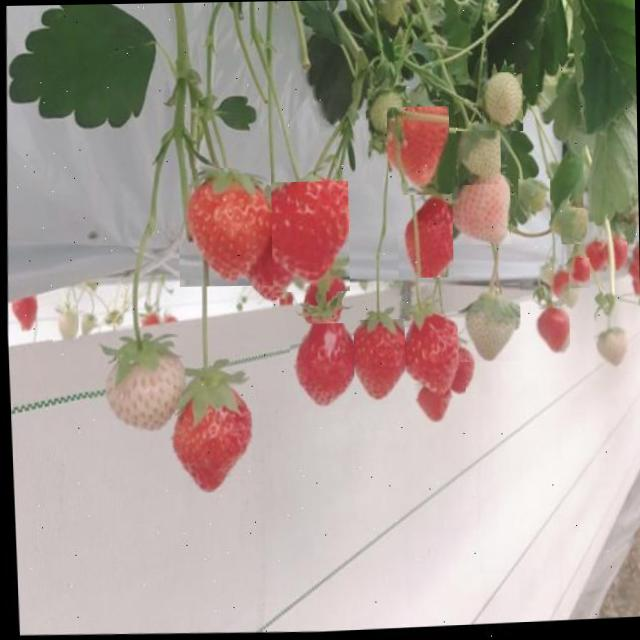ripe: (178, 166, 272, 286), (162, 372, 254, 493), (258, 181, 350, 293), (289, 322, 355, 412), (398, 314, 465, 398), (342, 318, 405, 404), (397, 192, 453, 278), (528, 308, 570, 356), (438, 341, 475, 394), (412, 380, 454, 422), (582, 241, 607, 273), (606, 242, 628, 272), (567, 258, 589, 288), (548, 272, 568, 298)
unripe: (88, 328, 186, 440), (386, 106, 450, 195), (456, 285, 520, 362), (452, 174, 511, 244), (477, 72, 523, 132), (456, 130, 500, 184), (366, 88, 406, 142), (592, 326, 630, 375), (518, 178, 550, 220), (52, 302, 79, 344), (560, 208, 586, 244)
